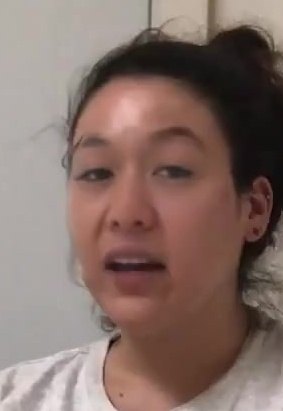eb_f: (68, 120, 213, 189)
